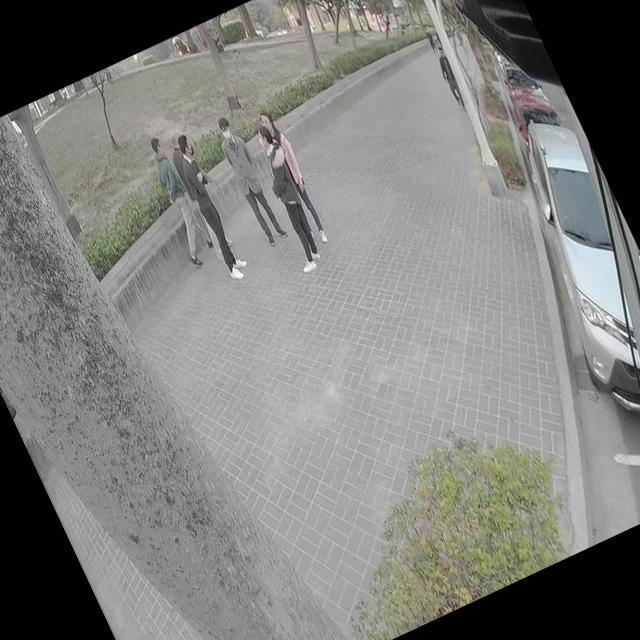person: (238, 117, 338, 277), (242, 106, 334, 261), (166, 128, 250, 278), (132, 131, 220, 270), (210, 112, 290, 250), (155, 128, 231, 252), (429, 43, 469, 108)
